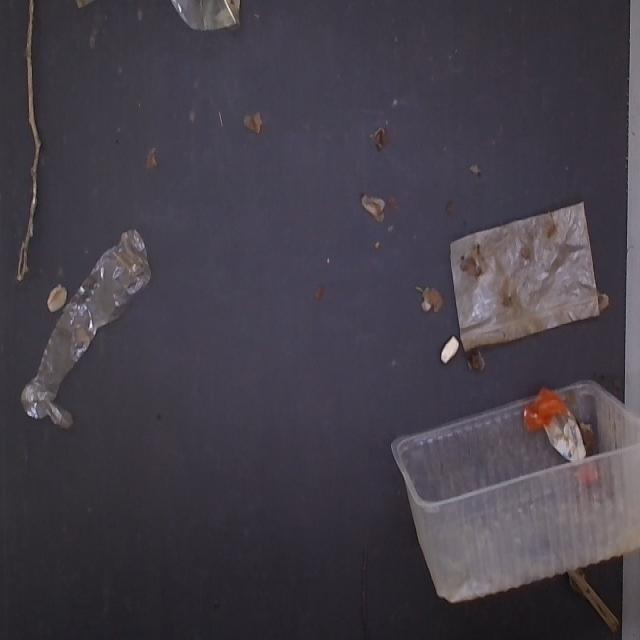plastic_cups: (373, 372, 640, 596), (159, 0, 259, 33)
plastic_films: (440, 200, 630, 370), (26, 216, 158, 440)
